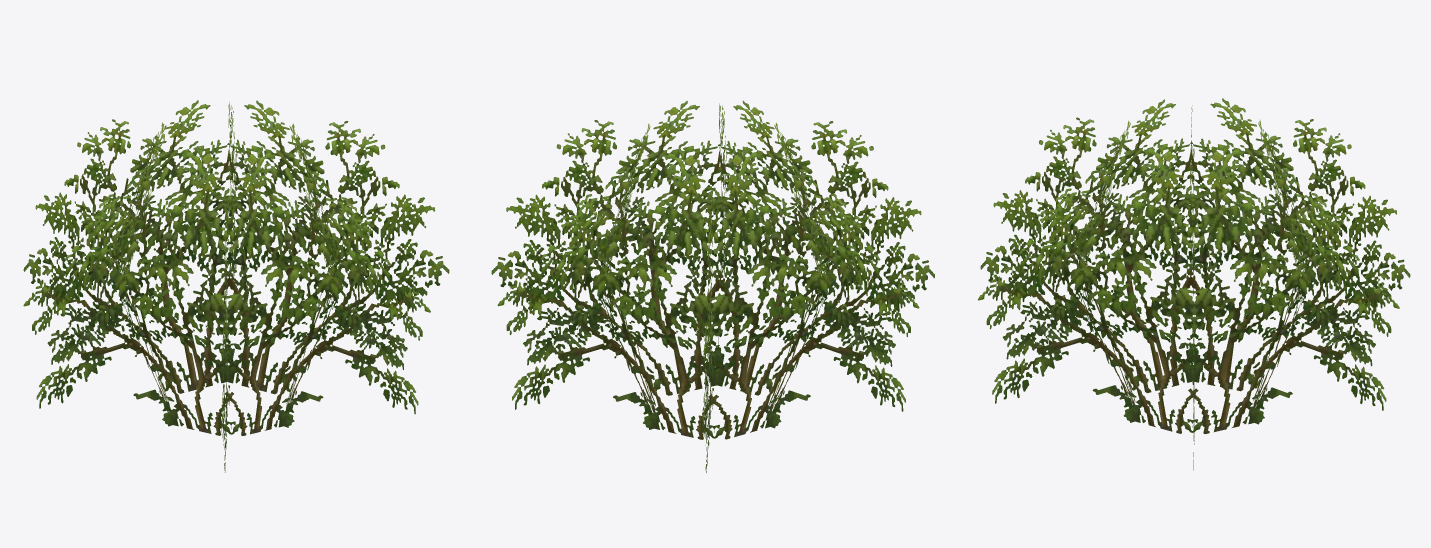
File: grs_weed10.glb
The picture shows the model from 3 angles, left to right: view 1: azimuth 30°, elevation 25°; view 2: azimuth 150°, elevation 25°; view 3: azimuth 270°, elevation 25°; orthographic projection.
Parts seen in each view (by area): view 1: grs_weed10; view 2: grs_weed10; view 3: grs_weed10.
Boxes of the visible parts, x1,y1,x2,y2 form: grs_weed10: [23, 100, 449, 472]; grs_weed10: [491, 100, 934, 472]; grs_weed10: [978, 98, 1410, 470].
Size of the model in its own units: 2.73 by 1.85 by 2.4.
1 material, 1 textured.
